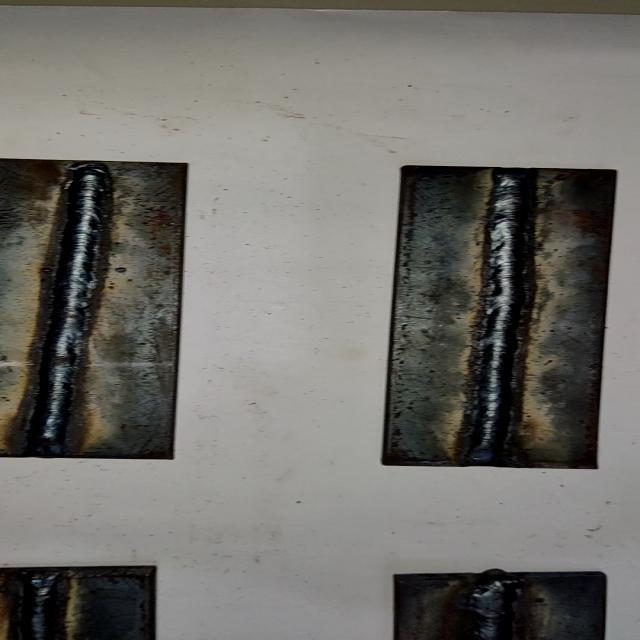Welding Line: (33, 164, 107, 453), (467, 169, 537, 463), (470, 578, 522, 640), (18, 571, 61, 640)
Workpiece: (377, 162, 627, 472), (0, 152, 196, 462), (387, 567, 612, 640), (0, 560, 168, 640)
